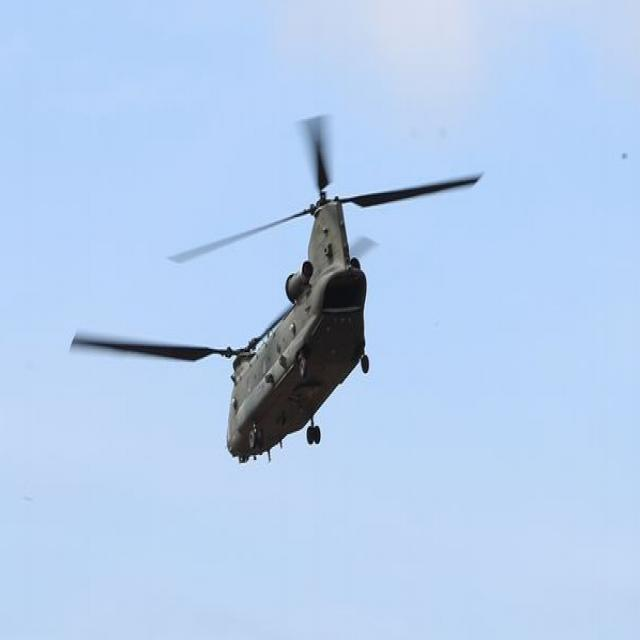helicopter: (73, 119, 486, 463)
